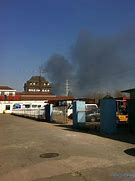smoke: (42, 33, 128, 91)
